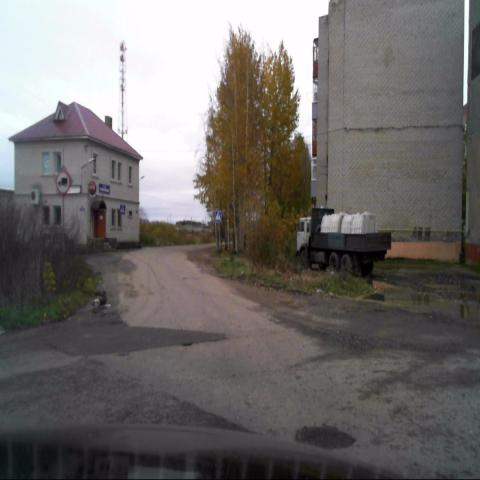3_4_1: (56, 170, 69, 194)
